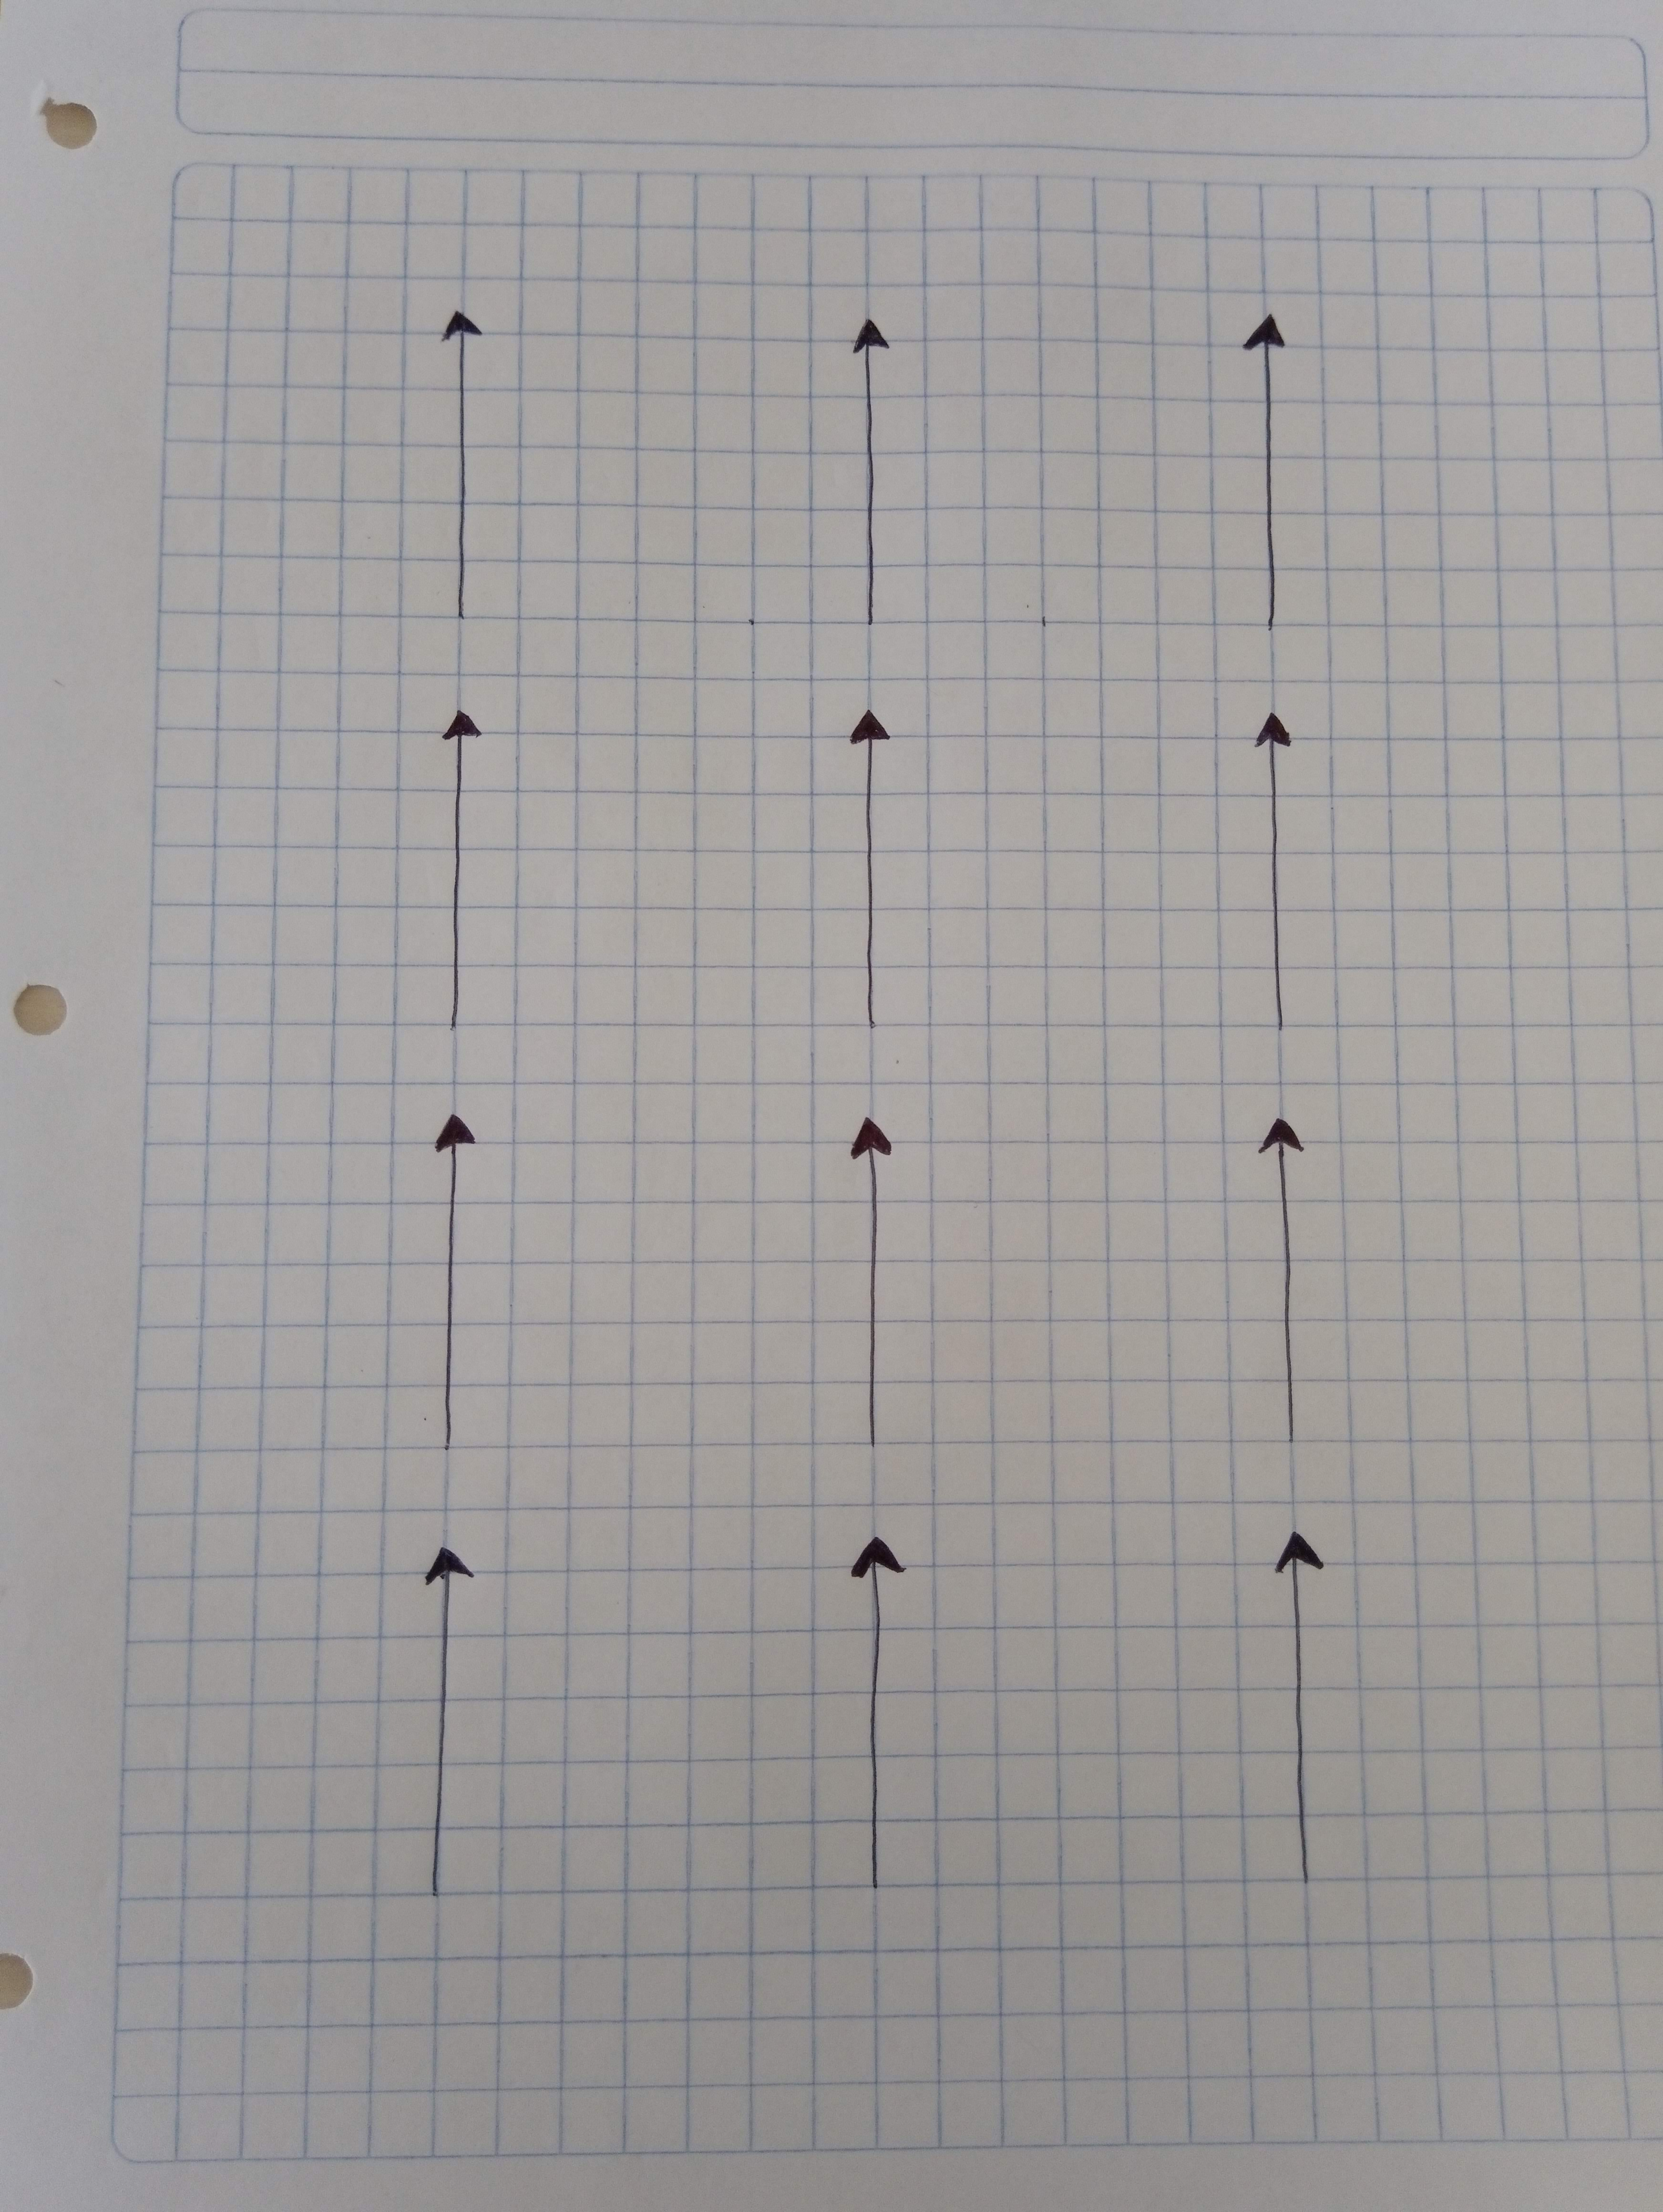arrow_line_up: (804, 1542, 964, 1936), (1247, 1128, 1366, 1484), (1258, 1522, 1363, 1913), (393, 306, 517, 635), (1235, 725, 1328, 1077), (1223, 321, 1312, 677), (828, 1100, 924, 1430), (412, 705, 498, 1065), (838, 698, 917, 1051), (840, 307, 917, 635), (433, 1096, 501, 1460), (405, 1545, 470, 1847)
